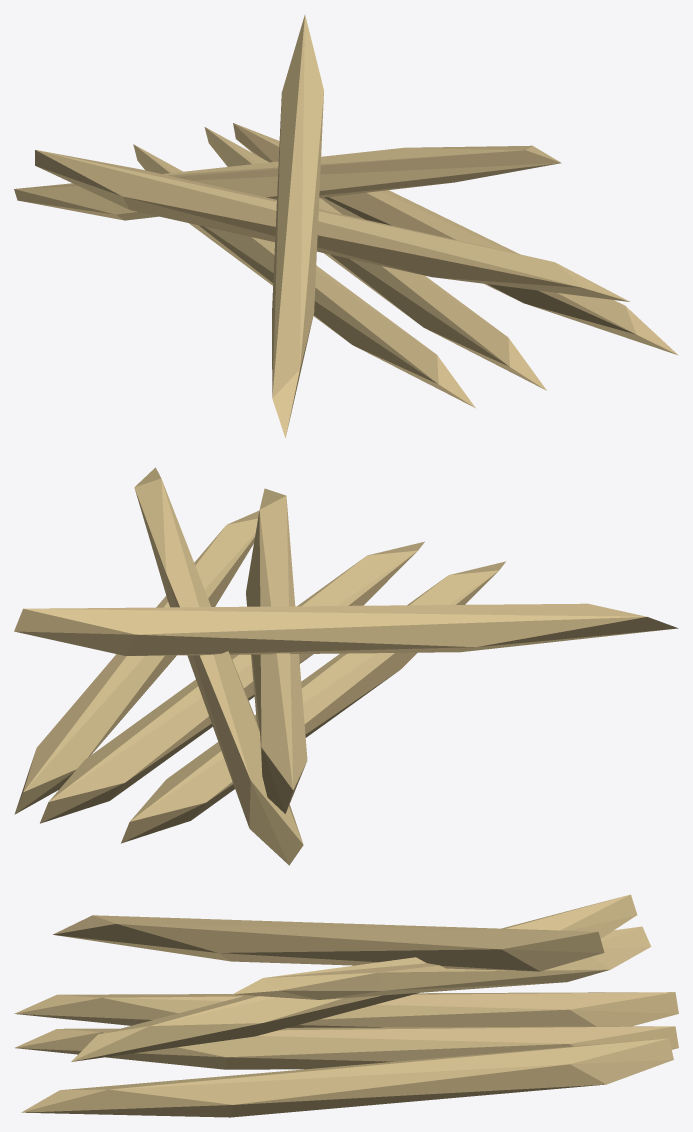
The picture shows the model from 3 angles, top to bottom: view 1: azimuth 30°, elevation 25°; view 2: azimuth 150°, elevation 25°; view 3: azimuth 270°, elevation 25°; orthographic projection. The views are drawn at different scales.
Parts seen in each view (by area): view 1: pPlatonic5, pPlatonic6, pPlatonic4, pPlatonic1, pPlatonic3, pPlatonic2; view 2: pPlatonic6, pPlatonic4, pPlatonic2, pPlatonic1, pPlatonic3, pPlatonic5; view 3: pPlatonic3, pPlatonic6, pPlatonic2, pPlatonic1, pPlatonic5, pPlatonic4.
Boxes of the visible parts, box(x1,y1,x2,y2) form: pPlatonic5: box(35, 150, 629, 301); pPlatonic6: box(272, 15, 323, 438); pPlatonic4: box(14, 145, 561, 220); pPlatonic1: box(133, 144, 475, 408); pPlatonic3: box(233, 123, 678, 355); pPlatonic2: box(204, 127, 546, 390); pPlatonic6: box(14, 603, 678, 655); pPlatonic4: box(134, 467, 303, 865); pPlatonic2: box(40, 541, 424, 823); pPlatonic1: box(121, 561, 505, 843); pPlatonic3: box(14, 511, 259, 814); pPlatonic5: box(246, 488, 307, 813); pPlatonic3: box(21, 1038, 673, 1117); pPlatonic6: box(53, 915, 604, 971); pPlatonic2: box(14, 1026, 678, 1069); pPlatonic1: box(14, 992, 678, 1027); pPlatonic5: box(71, 894, 637, 1061); pPlatonic4: box(233, 926, 651, 999).
Bounding box in the file's own units: 17.45 × 7.28 × 27.13.
